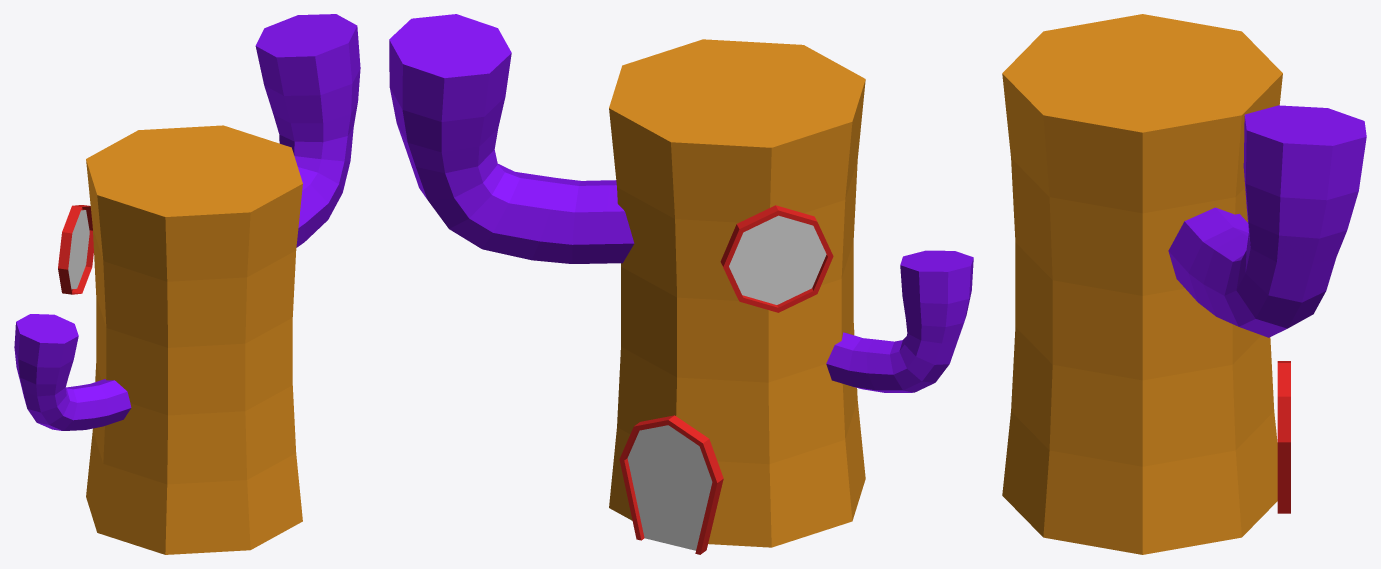
File: SM_House_003.fbx
3 views of the same model, side by side, from view 1: azimuth 30°, elevation 25°; view 2: azimuth 150°, elevation 25°; view 3: azimuth 270°, elevation 25° (orthographic). The views are drawn at different scales.
Visible parts, largest first — view 1: Cylinder.012, Cylinder.014, Cylinder.013, Cylinder.015; view 2: Cylinder.012, Cylinder.014, Cylinder.013, Cylinder.016, Cylinder.015; view 3: Cylinder.012, Cylinder.014, Cylinder.016.
Part boxes in pixels (<box>): Cylinder.012: <box>86,125,302,554</box>; Cylinder.014: <box>255,14,360,247</box>; Cylinder.013: <box>14,314,131,430</box>; Cylinder.015: <box>58,205,93,294</box>; Cylinder.012: <box>609,39,865,547</box>; Cylinder.014: <box>389,14,634,263</box>; Cylinder.013: <box>826,250,973,392</box>; Cylinder.016: <box>619,415,723,554</box>; Cylinder.015: <box>720,205,833,312</box>; Cylinder.012: <box>1002,14,1282,554</box>; Cylinder.014: <box>1168,105,1366,337</box>; Cylinder.016: <box>1277,361,1290,513</box>.
Size of the model in its own units: 277 by 254 by 172.
